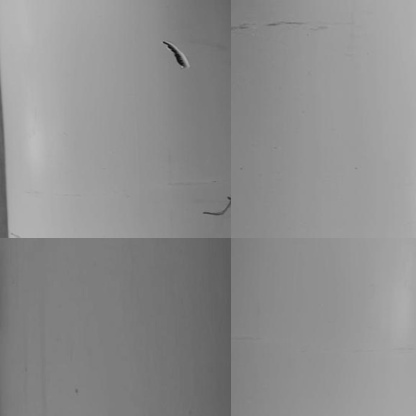fengxi: (201, 192, 234, 219)
kongdong: (159, 38, 191, 70)
